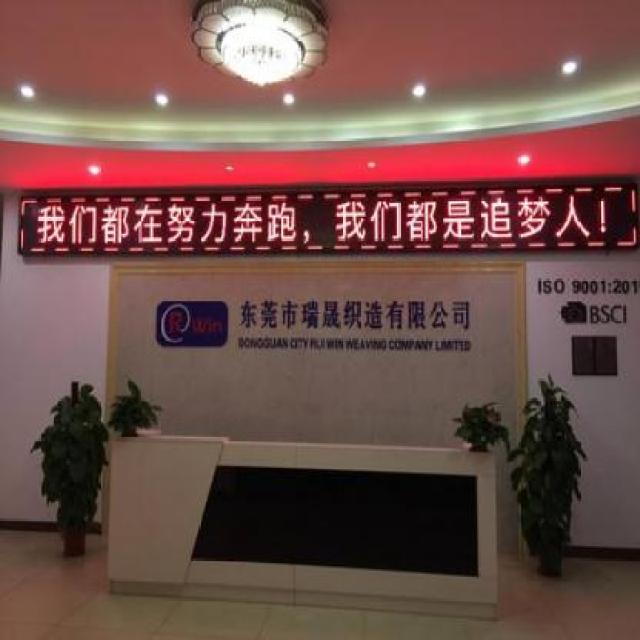frontdesk: (97, 408, 512, 633)
